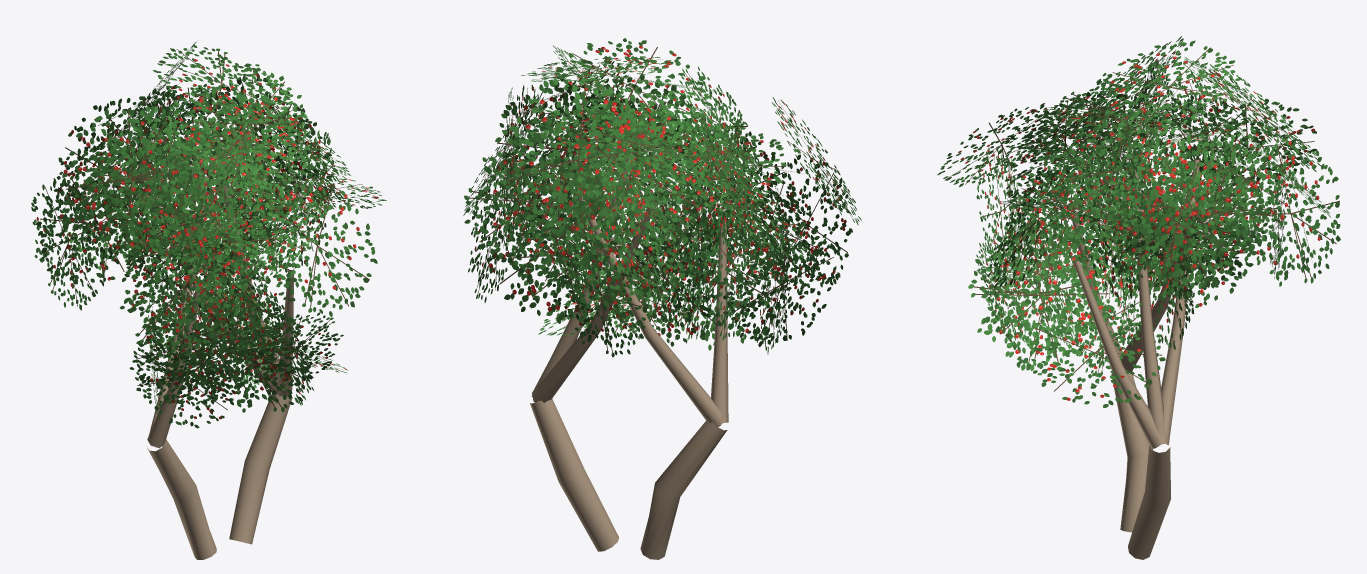
File: eugenia-uniflora.glb
3 views of the same model, side by side, from view 1: azimuth 30°, elevation 25°; view 2: azimuth 150°, elevation 25°; view 3: azimuth 270°, elevation 25° (orthographic). The views are drawn at different scales.
Parts seen in each view (by area): view 1: folhas, tronco; view 2: folhas, tronco; view 3: folhas, tronco.
Part boxes in pixels (x1,y1,x2,y2): folhas: (31,42,386,428); tronco: (145,176,294,559); folhas: (463,38,861,357); tronco: (530,154,728,559); folhas: (937,36,1340,407); tronco: (1072,159,1200,559).
Size of the model in its own units: 3.45 by 5 by 4.
Materials: 2 (1 with a texture image).
